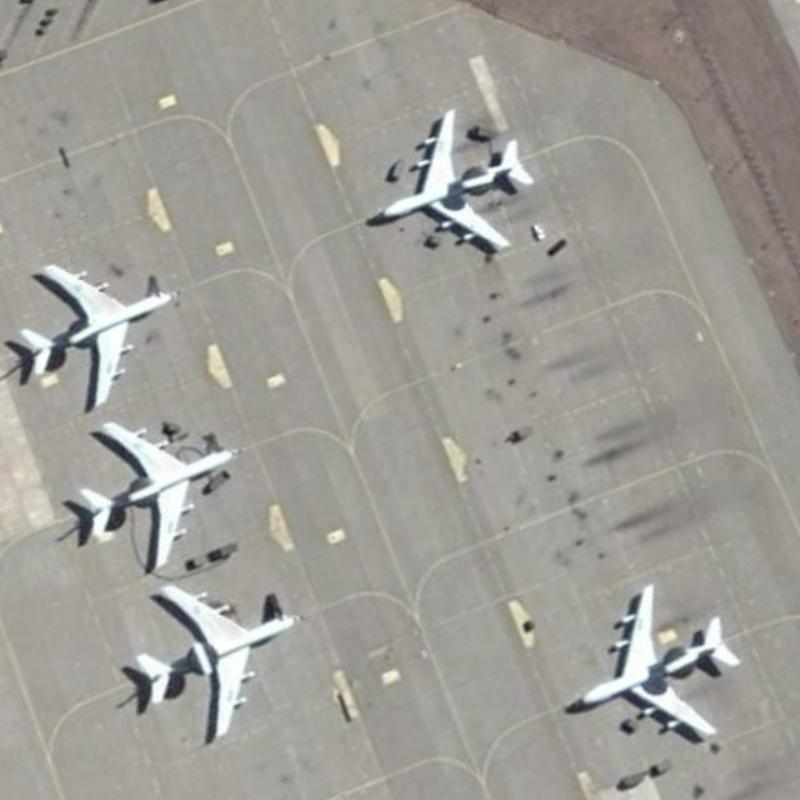A7: (122, 572, 309, 749), (57, 413, 249, 578), (573, 577, 742, 743), (360, 105, 541, 253), (15, 254, 177, 415)
